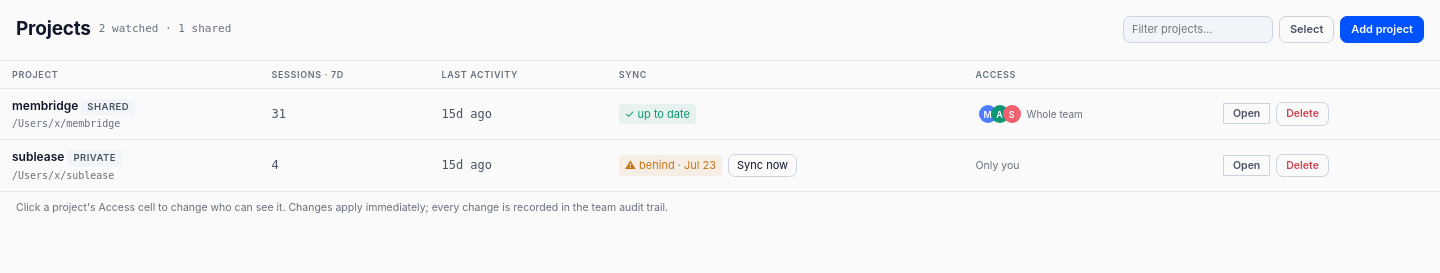
Test case: select mode › reports a partial failure by name and does not roll back the successes
Expected: the row with test id "project-row-membridge" is shown, [0,88,1439,140]
Click the button "Select": [1307, 29] box [1279,16,1334,42]
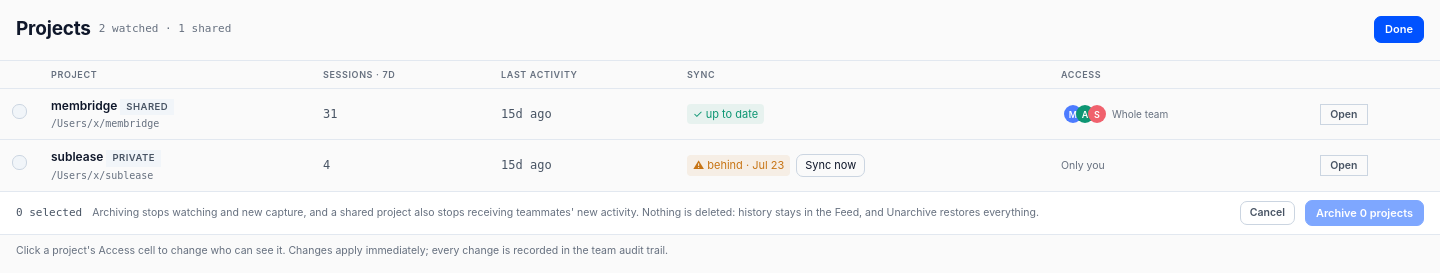
Click the checkbox named "select membridge": [20, 112] box [12,104,27,119]
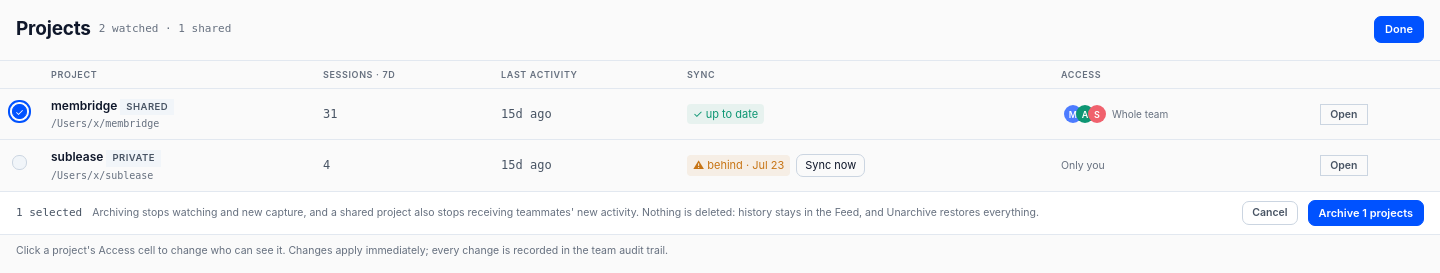
Click the checkbox named "select sublease": [20, 163] box [12,155,27,170]
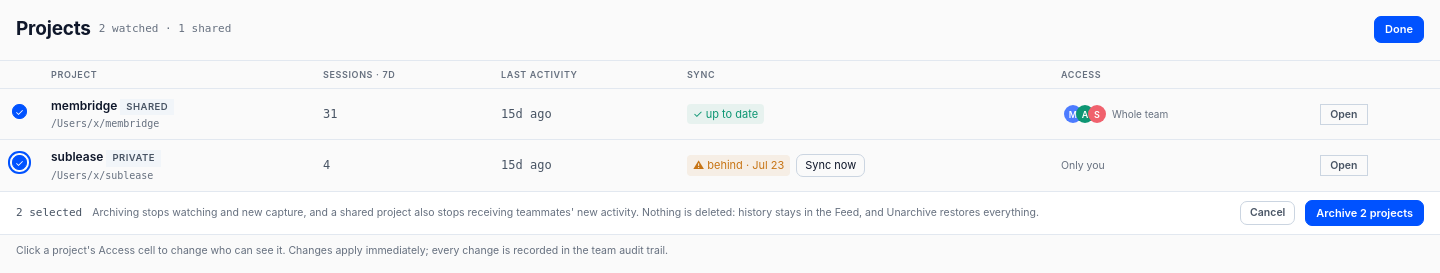
Click the button "Archive 2 projects": [1365, 213] box [1305,200,1424,226]
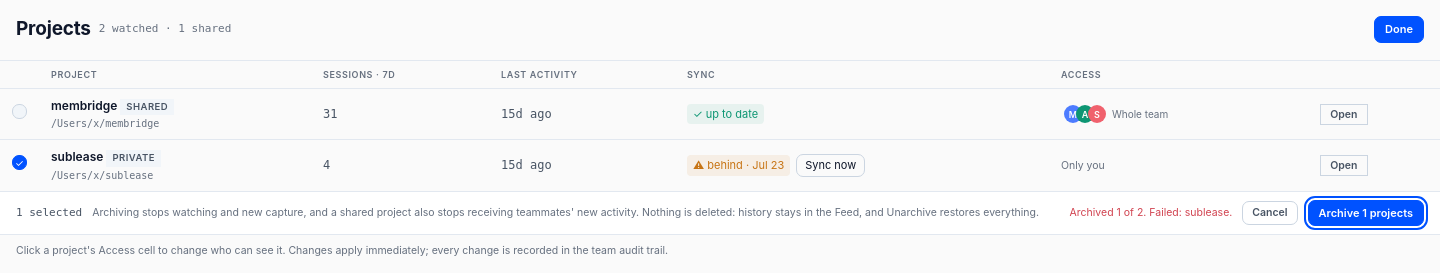
Expected: the text "Archived 1 of 2. Failed: sublease." is shown, [1070,205,1232,221]
